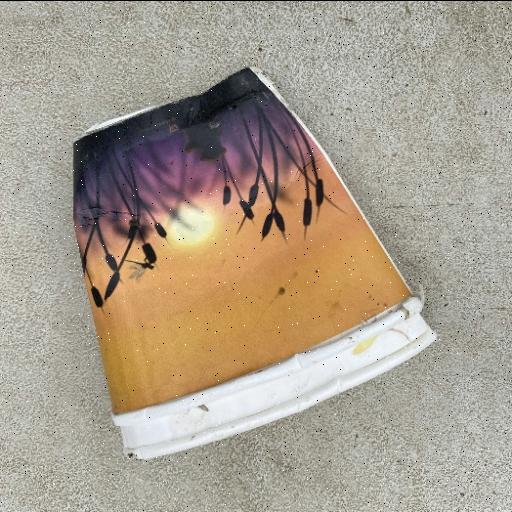Cardboard: (70, 64, 436, 462)
